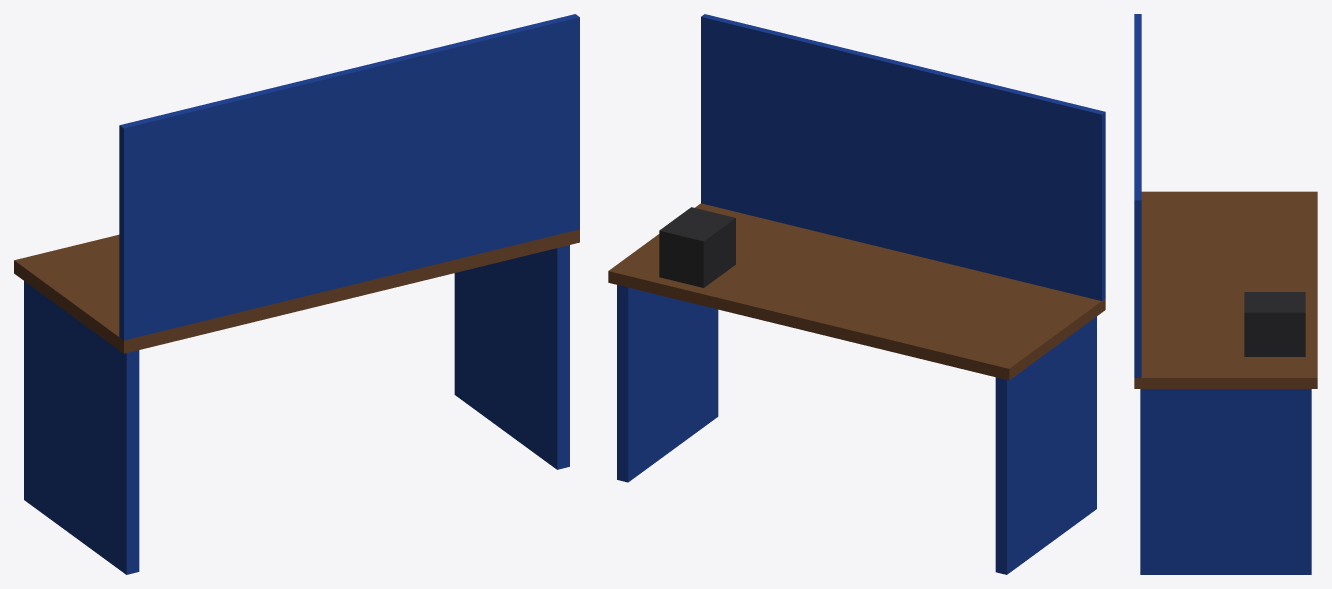
File: industrial.machine.workbench.glb
3 renders of one model, left to right at view 1: azimuth 30°, elevation 25°; view 2: azimuth 150°, elevation 25°; view 3: azimuth 270°, elevation 25°, orthographic. The views are drawn at different scales.
Parts seen in each view (by area): view 1: main__plastic_blue, main__hardwood; view 2: main__plastic_blue, main__hardwood, main__cast_iron; view 3: main__plastic_blue, main__hardwood, main__cast_iron.
Part boxes in pixels (<box>): main__plastic_blue: <box>24,14,579,574</box>; main__hardwood: <box>14,229,579,353</box>; main__plastic_blue: <box>617,14,1105,574</box>; main__hardwood: <box>608,203,1105,380</box>; main__cast_iron: <box>659,207,735,287</box>; main__plastic_blue: <box>1134,14,1311,574</box>; main__hardwood: <box>1134,191,1317,388</box>; main__cast_iron: <box>1244,292,1305,356</box>.
Size of the model in its own units: 1.8 by 1.7 by 0.75.
